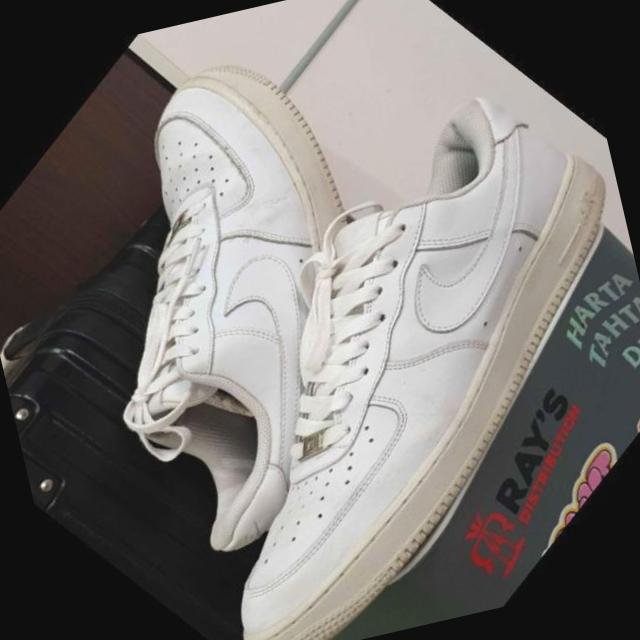nike_original_airforce: (15, 42, 640, 640), (0, 0, 557, 627)
